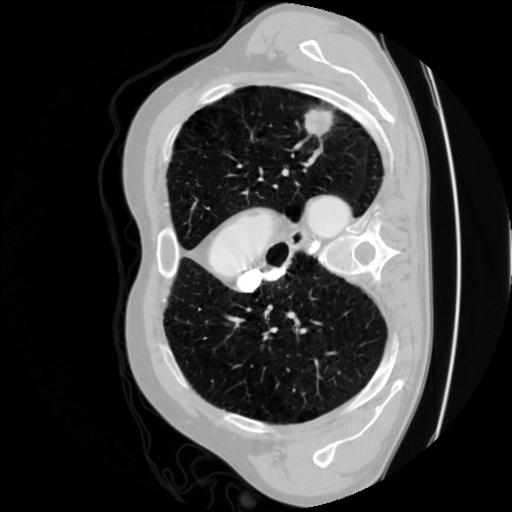nodule: (302, 107, 335, 140)
